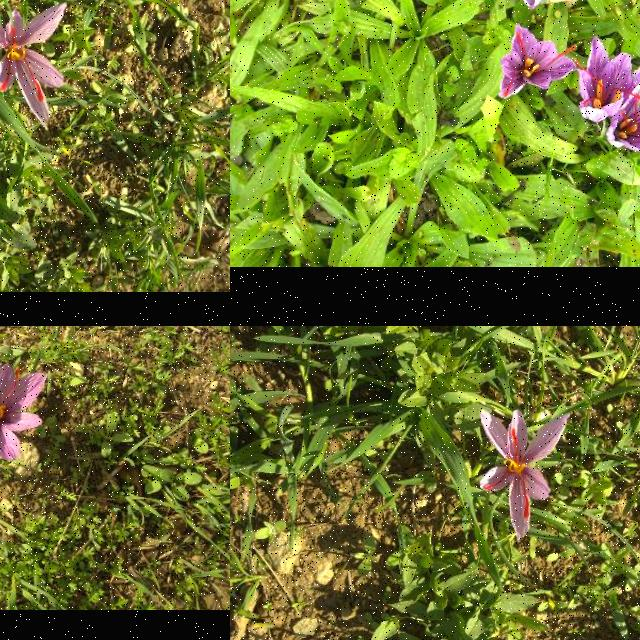flower: (481, 411, 571, 542), (0, 2, 68, 129), (500, 24, 578, 98), (578, 37, 640, 123), (0, 364, 49, 462), (605, 97, 640, 153)
